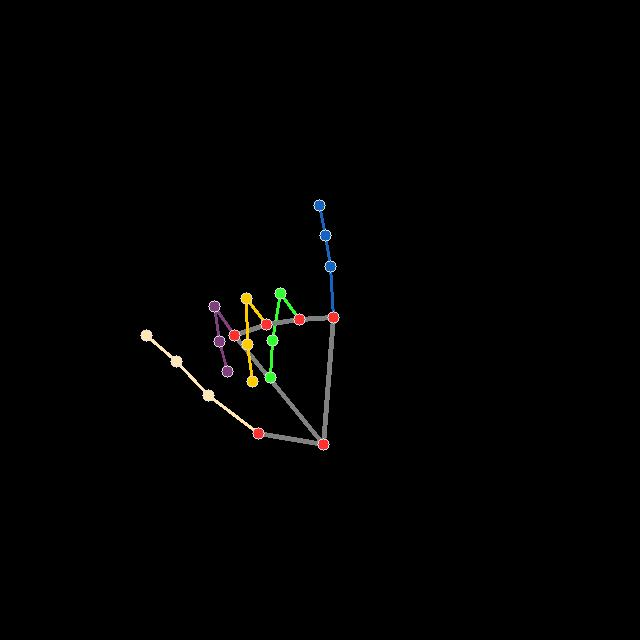skr: (139, 197, 341, 452)
